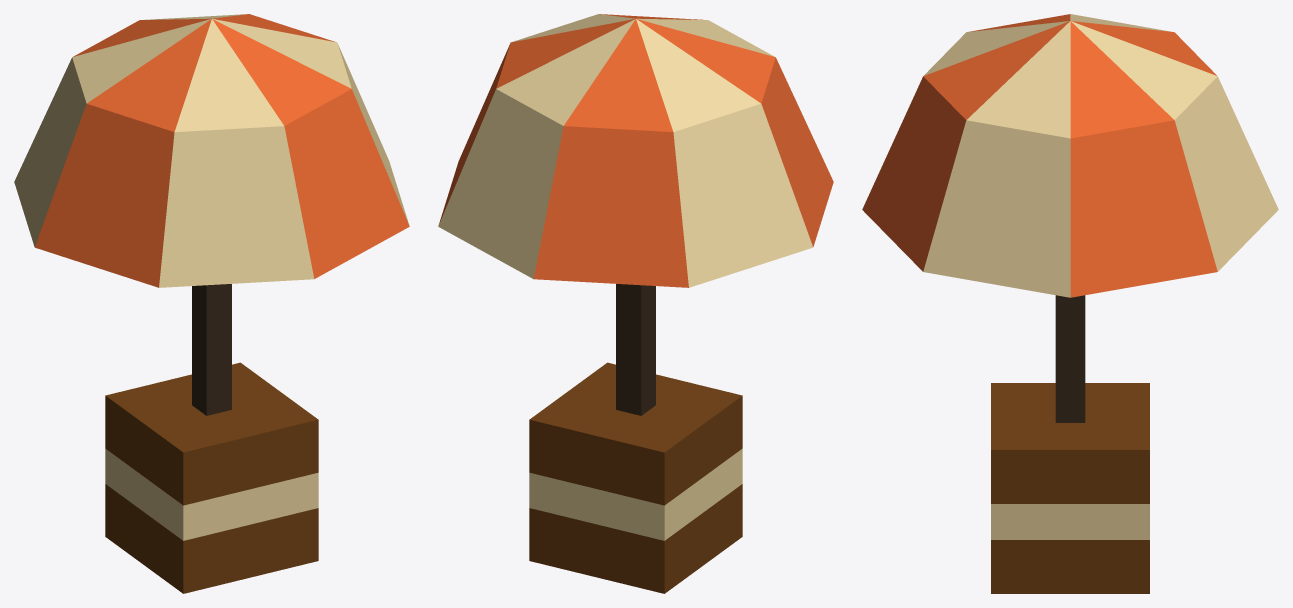
File: crate.glb
The picture shows the model from 3 angles, left to right: view 1: azimuth 30°, elevation 25°; view 2: azimuth 150°, elevation 25°; view 3: azimuth 270°, elevation 25°; orthographic projection.
Parts seen in each view (by area): view 1: Chute, CrateT3, CrateB1, CrateM2, Line4; view 2: Chute, CrateT3, CrateB1, CrateM2, Line4; view 3: Chute, CrateT3, CrateB1, CrateM2, Line4.
Part boxes in pixels (x1,y1,x2,y2): Chute: [14, 14, 409, 287]; CrateT3: [105, 362, 318, 505]; CrateB1: [105, 484, 318, 593]; CrateM2: [105, 448, 318, 540]; Line4: [192, 284, 231, 415]; Chute: [438, 14, 833, 287]; CrateT3: [529, 362, 742, 505]; CrateB1: [529, 484, 742, 593]; CrateM2: [529, 448, 742, 540]; Line4: [616, 284, 655, 415]; Chute: [862, 14, 1278, 297]; CrateT3: [991, 383, 1149, 503]; CrateB1: [991, 540, 1149, 593]; CrateM2: [991, 504, 1149, 539]; Line4: [1055, 295, 1085, 422].
Size of the model in its own units: 0.84 by 1.2 by 0.84.
